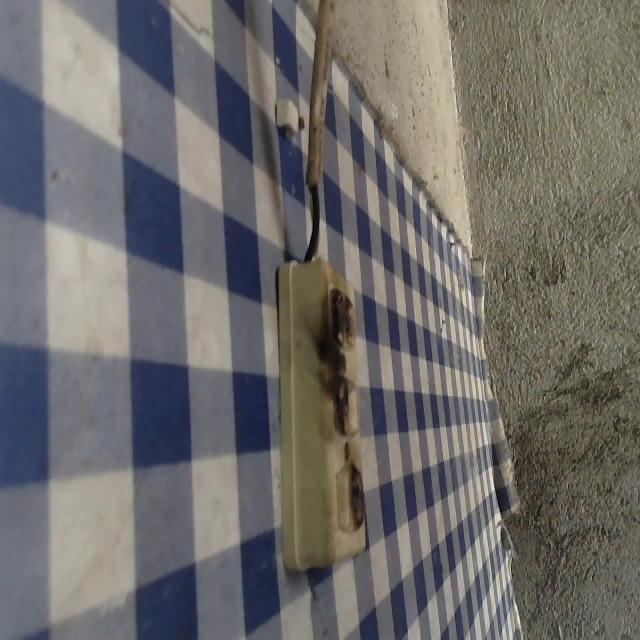-: (323, 283, 362, 353), (341, 458, 374, 534), (323, 372, 355, 437)
